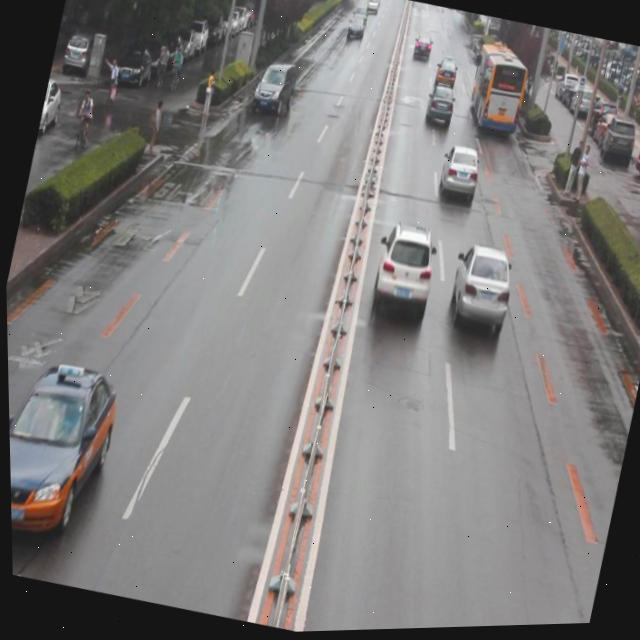car: (6, 347, 126, 542), (364, 220, 442, 330), (440, 243, 517, 343), (432, 143, 481, 210), (422, 83, 455, 132)
truck: (249, 62, 298, 117)
